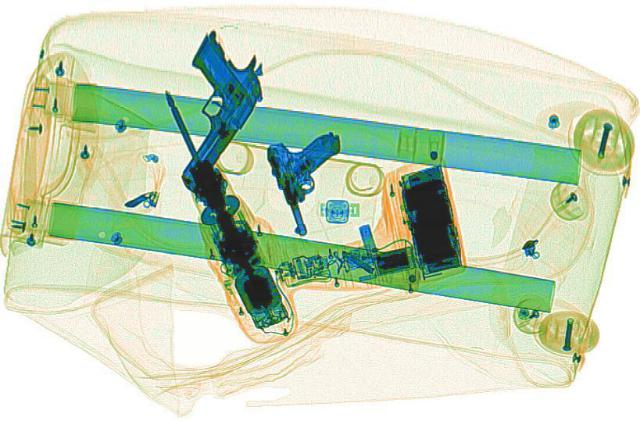Gun: (116, 28, 294, 187), (261, 129, 365, 234)
